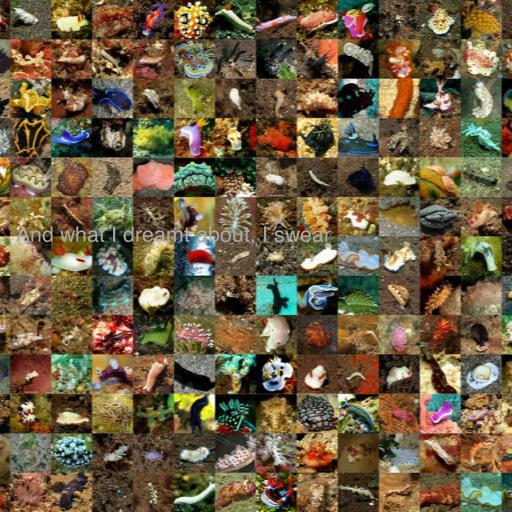Impact: (15, 226, 331, 245)
